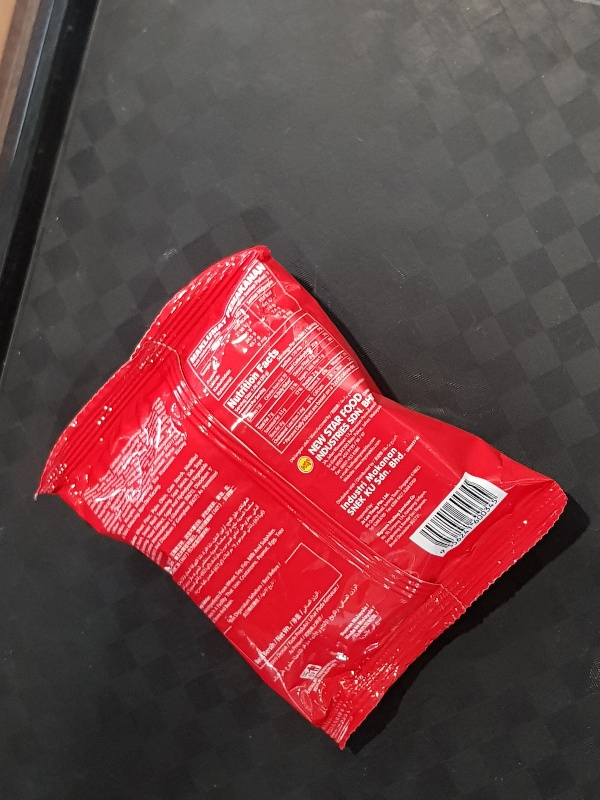ShoyueMi Spicy Flavoured Snacks: (32, 239, 569, 752)
